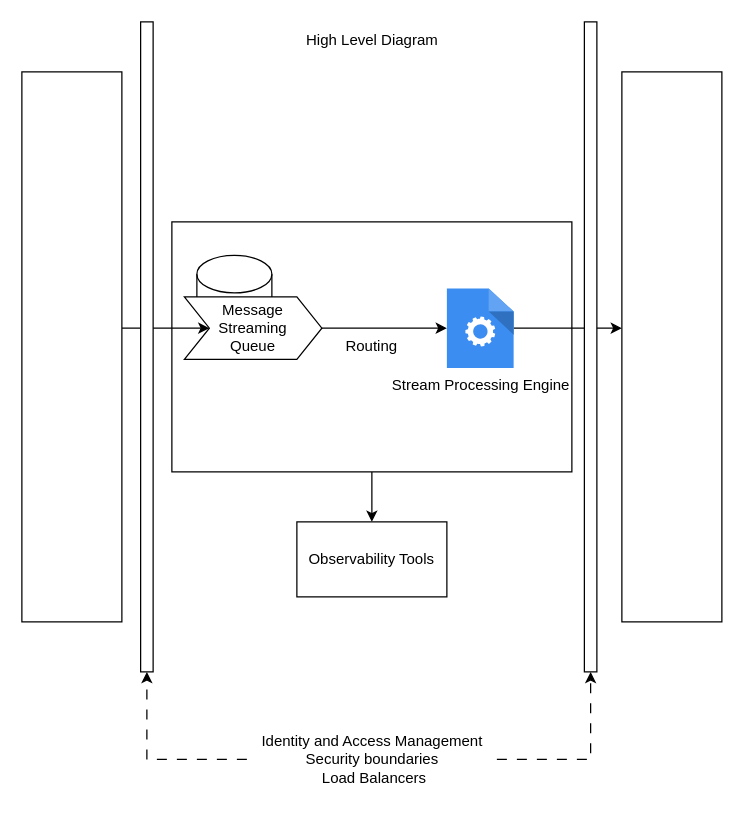
The diagram is 744 pixels wide and 819 high, and some of its shapes have lost their labels. The shapes that lost their labels are listed below. From the top down, each one's box as (x1, y1, x2, y2) in pixels, then its label:
(21, 71, 122, 622): Input
(621, 71, 722, 622): Output
